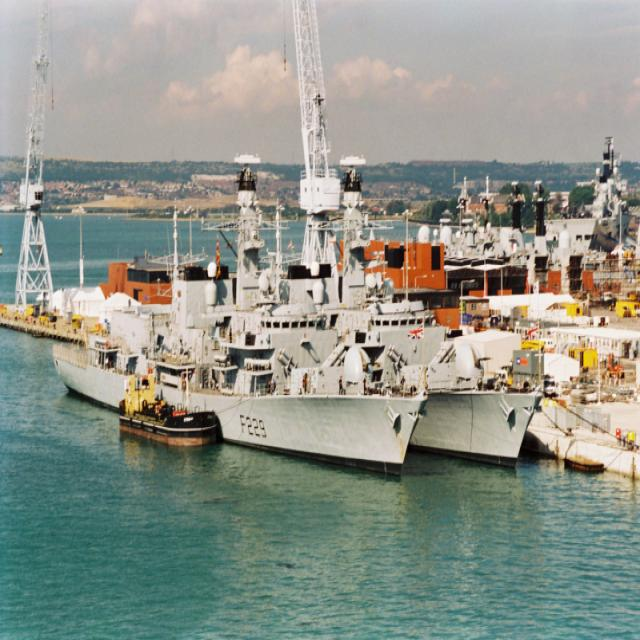Fragata: (47, 155, 435, 486), (255, 146, 549, 482)
